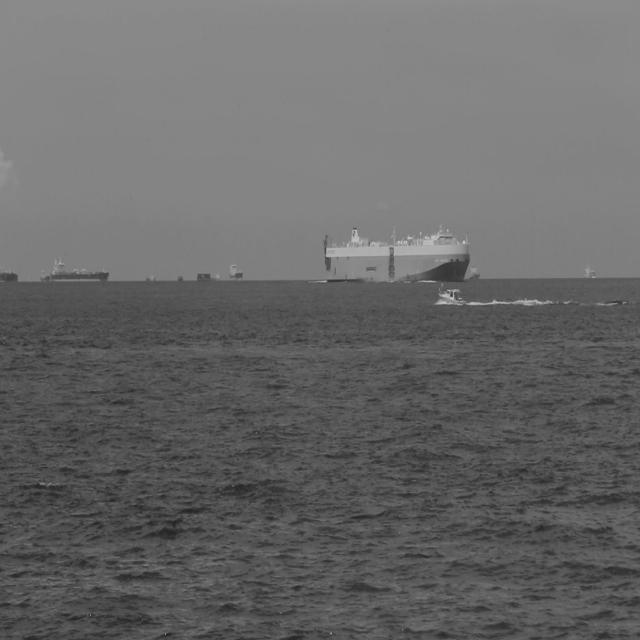ship: (322, 222, 471, 283), (50, 252, 110, 284), (438, 282, 467, 308), (0, 265, 20, 283), (227, 260, 243, 282), (467, 260, 481, 281), (39, 266, 50, 284), (196, 270, 212, 282), (175, 273, 184, 282)
